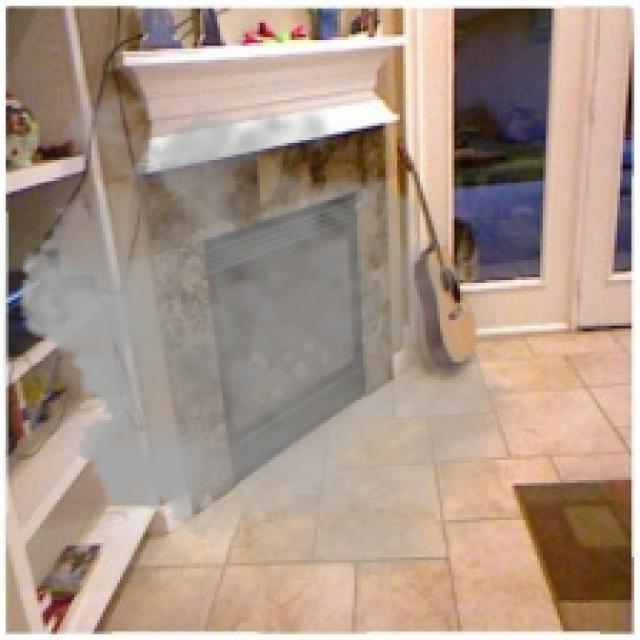smoke: (3, 74, 537, 592)
